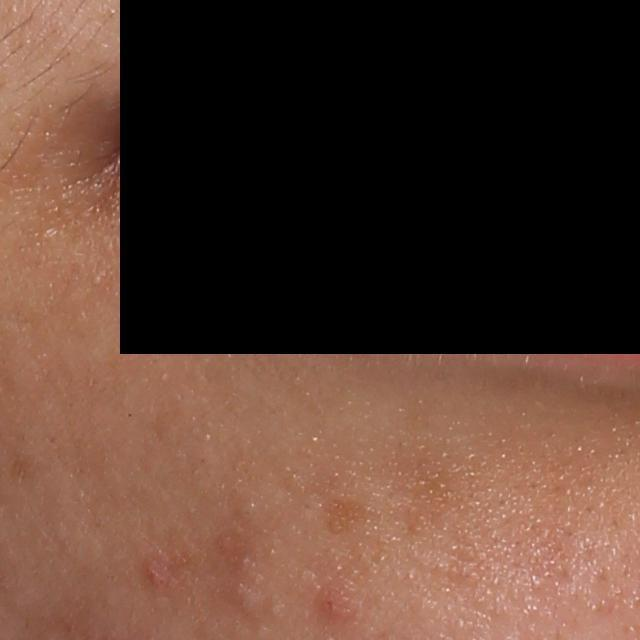papule: (312, 588, 356, 623), (146, 557, 174, 594)
